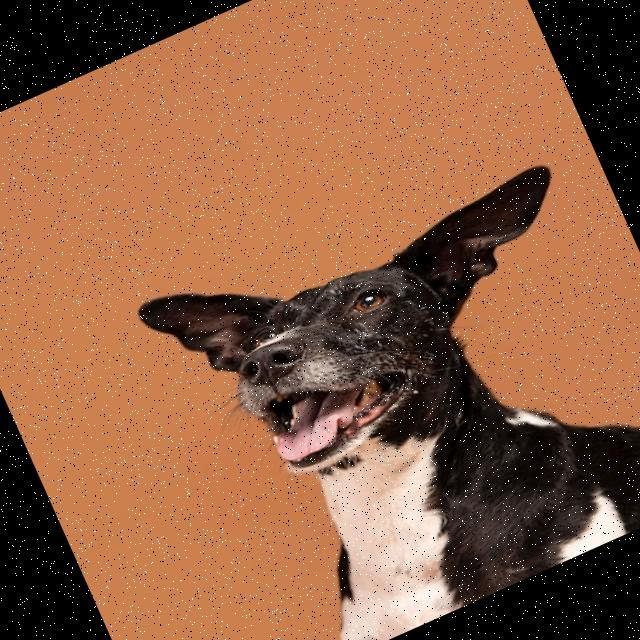Dog: (136, 109, 640, 640)
